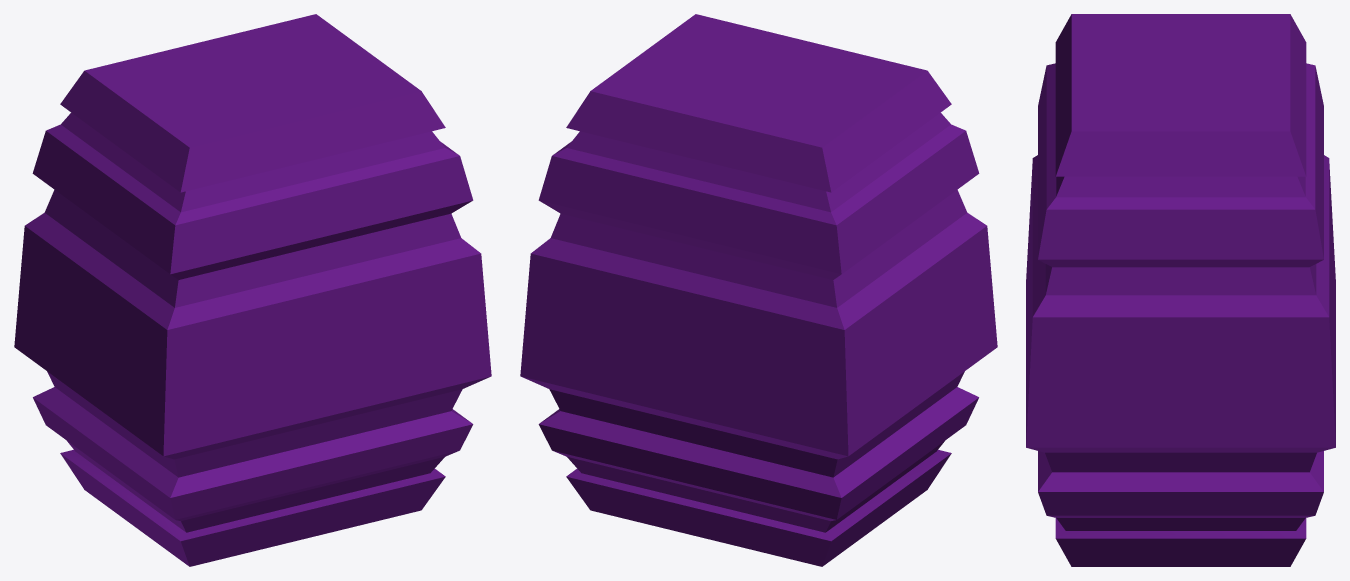
File: barrel2.FBX
The picture shows the model from 3 angles, left to right: view 1: azimuth 30°, elevation 25°; view 2: azimuth 150°, elevation 25°; view 3: azimuth 270°, elevation 25°; orthographic projection. The views are drawn at different scales.
Visible parts, largest first — view 1: Cylinder002; view 2: Cylinder002; view 3: Cylinder002.
Part boxes in pixels (bbox=[...]): Cylinder002: bbox=[14, 14, 491, 566]; Cylinder002: bbox=[520, 14, 997, 566]; Cylinder002: bbox=[1026, 14, 1335, 566].
Size of the model in its own units: 73.39 by 89.6 by 57.78.
